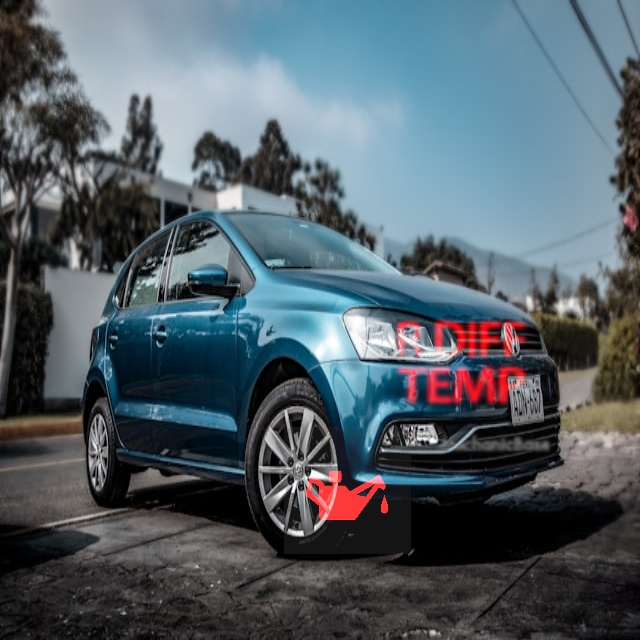symbol: (366, 269, 557, 460), (284, 427, 411, 554)
